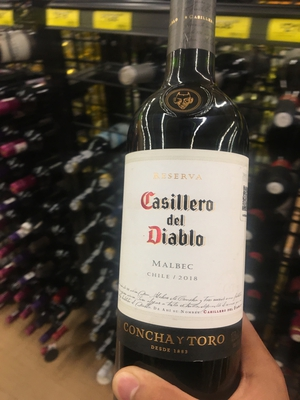casillero del diablo malbec: (118, 22, 263, 400)
